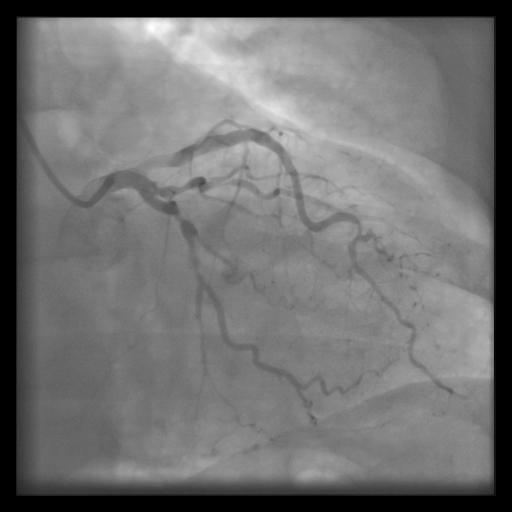Stenosis: (163, 202, 192, 227)
